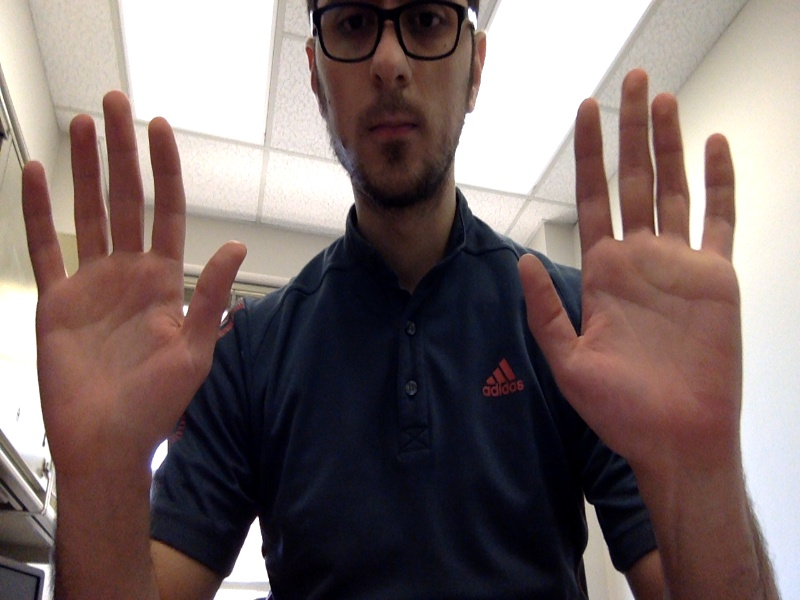5-hand: (519, 69, 742, 481), (21, 90, 247, 461)
